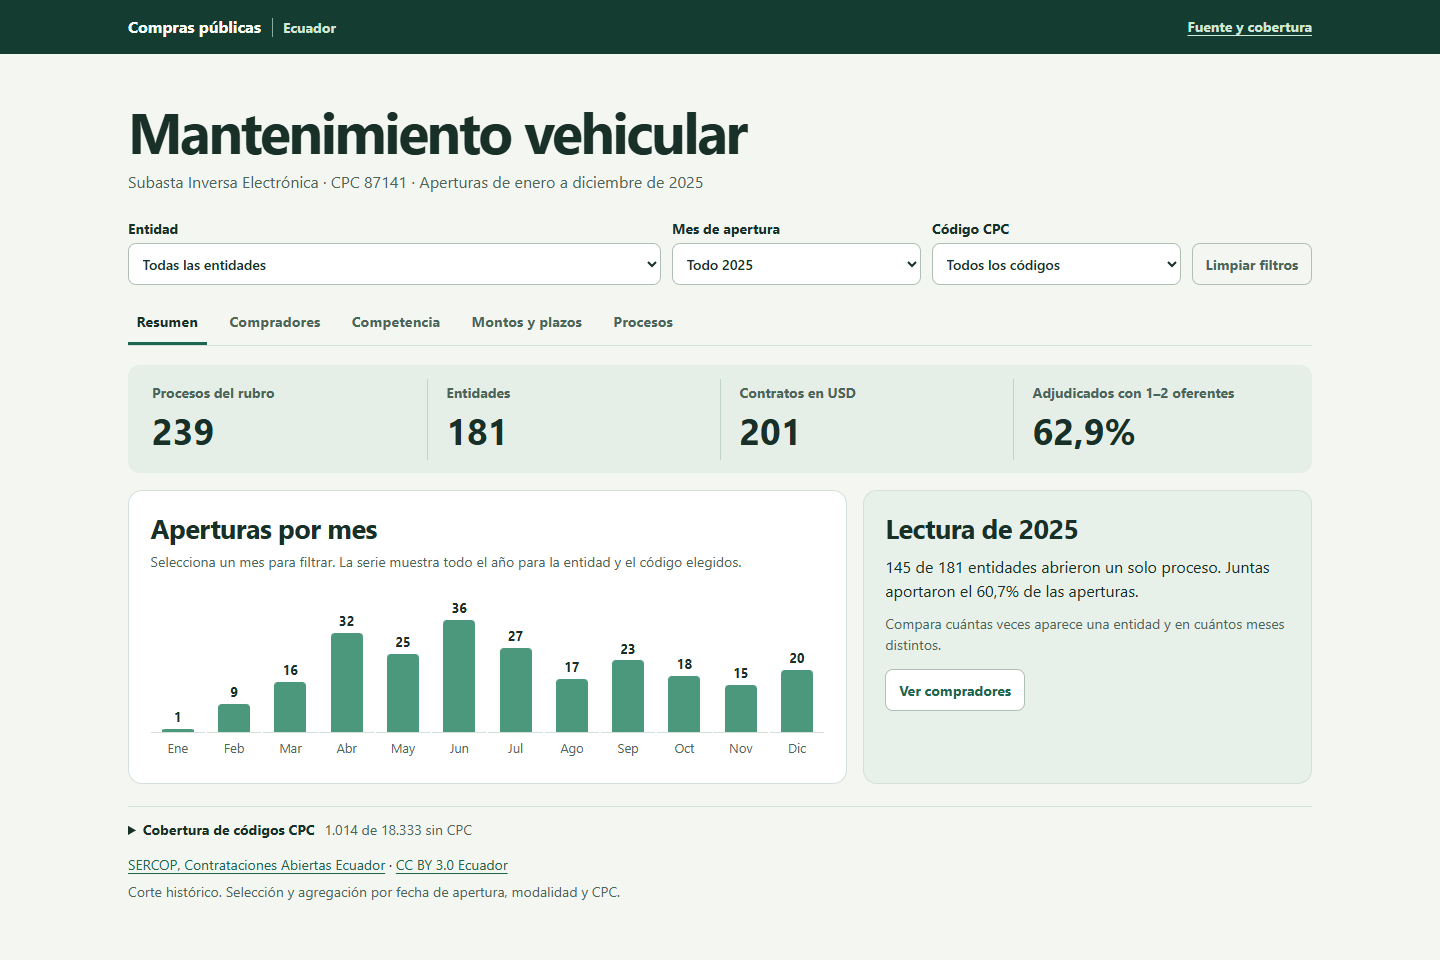

Layout of this report page (visuals, bound fields, positions):
{"tool":"powerbi","page":{"name":"Resumen","canvas":[1280,720],"ordinal":0},"visuals":[{"type":"textbox","box":[32,22,1195,59],"z":100},{"type":"textbox","box":[32,85,1216,33],"z":200},{"type":"slicer","fields":{"Values":["Mes.Mes"]},"box":[32,121,250,52],"z":300},{"type":"slicer","fields":{"Values":["Entidad.Entidad"]},"box":[304,121,640,52],"z":400},{"type":"textbox","box":[32,678,1195,36],"z":500},{"type":"card","fields":{"Values":["Procesos.Aperturas"]},"box":[32,176,288,105],"z":600},{"type":"card","fields":{"Values":["Procesos.Entidades"]},"box":[340,176,288,105],"z":700},{"type":"card","fields":{"Values":["Procesos.Contratos en USD"]},"box":[648,176,288,105],"z":800},{"type":"card","fields":{"Values":["Procesos.Cobertura CPC"]},"box":[956,176,288,105],"z":900},{"type":"columnChart","title":"Aperturas por mes","fields":{"Category":["Mes.Mes"],"Y":["Procesos.Aperturas"]},"box":[32,295,800,365],"z":1000},{"type":"textbox","box":[859,320,360,245],"z":1100}]}

Visuals, with their boxes on the page's 1280x720 design canvas (x1, y1, x2, y2). These are canvas units, not pixel positions in the 1440x960 screenshot, which may show the page scaled, cropped or inside an application window:
textbox: 32, 22, 1227, 81
textbox: 32, 85, 1248, 118
slicer - Mes.Mes: 32, 121, 282, 173
slicer - Entidad.Entidad: 304, 121, 944, 173
textbox: 32, 678, 1227, 714
card - Procesos.Aperturas: 32, 176, 320, 281
card - Procesos.Entidades: 340, 176, 628, 281
card - Procesos.Contratos en USD: 648, 176, 936, 281
card - Procesos.Cobertura CPC: 956, 176, 1244, 281
"Aperturas por mes" columnChart: 32, 295, 832, 660
textbox: 859, 320, 1219, 565
